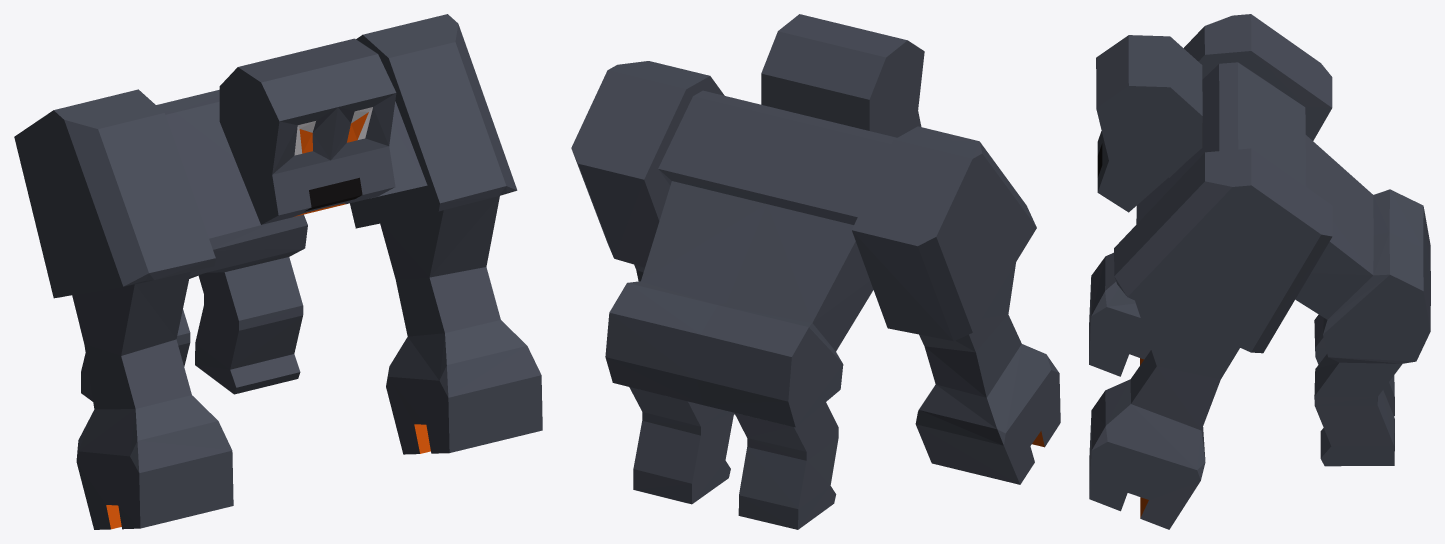
The model's file is kong_000037.obj.
3 renders of one model, left to right at view 1: azimuth 30°, elevation 25°; view 2: azimuth 150°, elevation 25°; view 3: azimuth 270°, elevation 25°, orthographic. The views are drawn at different scales.
Parts seen in each view (by area): view 1: Cube; view 2: Cube; view 3: Cube.
Boxes of the visible parts, <box> form: Cube: <box>14,14,542,529</box>; Cube: <box>571,14,1060,529</box>; Cube: <box>1089,14,1430,529</box>.
Bounding box in the file's own units: 5.84 × 5.91 × 4.8.
Materials: 1 (1 with a texture image).
